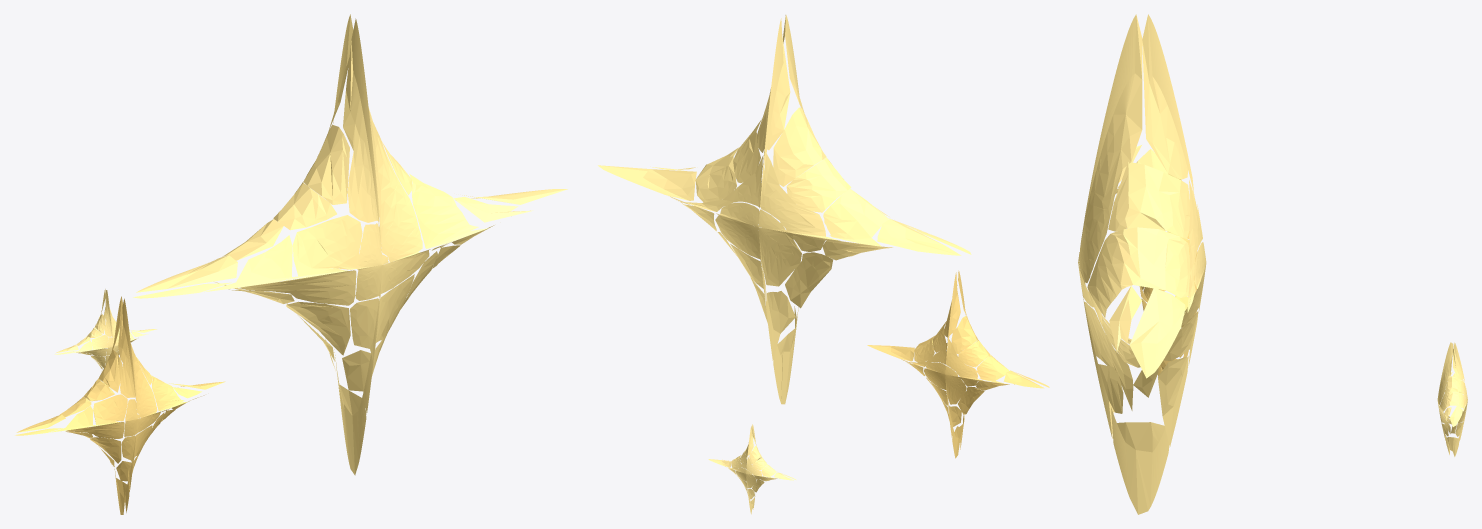
The model's file is star.glb.
3 views of the same model, side by side, from view 1: azimuth 30°, elevation 25°; view 2: azimuth 150°, elevation 25°; view 3: azimuth 270°, elevation 25° (orthographic). The views are drawn at different scales.
Parts seen in each view (by area): view 1: star_part_1, star_part_0; view 2: star_part_1, star_part_0; view 3: star_part_1, star_part_0.
Part boxes in pixels (left/top/right/bottom): star_part_1: left=54, top=14, right=567, bottom=475; star_part_0: left=15, top=296, right=225, bottom=514; star_part_1: left=598, top=15, right=971, bottom=514; star_part_0: left=867, top=270, right=1049, bottom=458; star_part_1: left=1078, top=14, right=1467, bottom=514; star_part_0: left=1139, top=174, right=1197, bottom=375.
Size of the model in its own units: 2 by 1.61 by 1.14.
